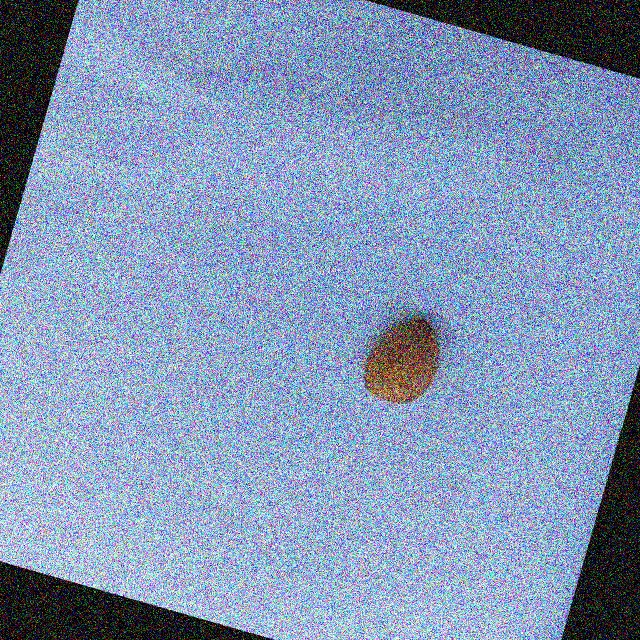grade2: (350, 302, 454, 416)
